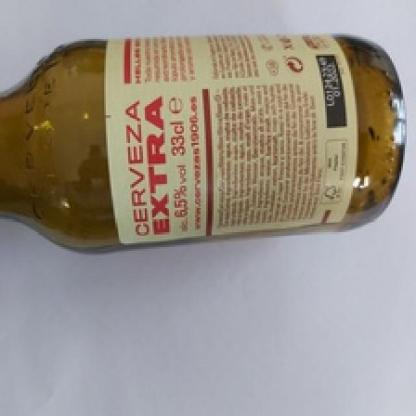Can: (0, 33, 407, 254)
